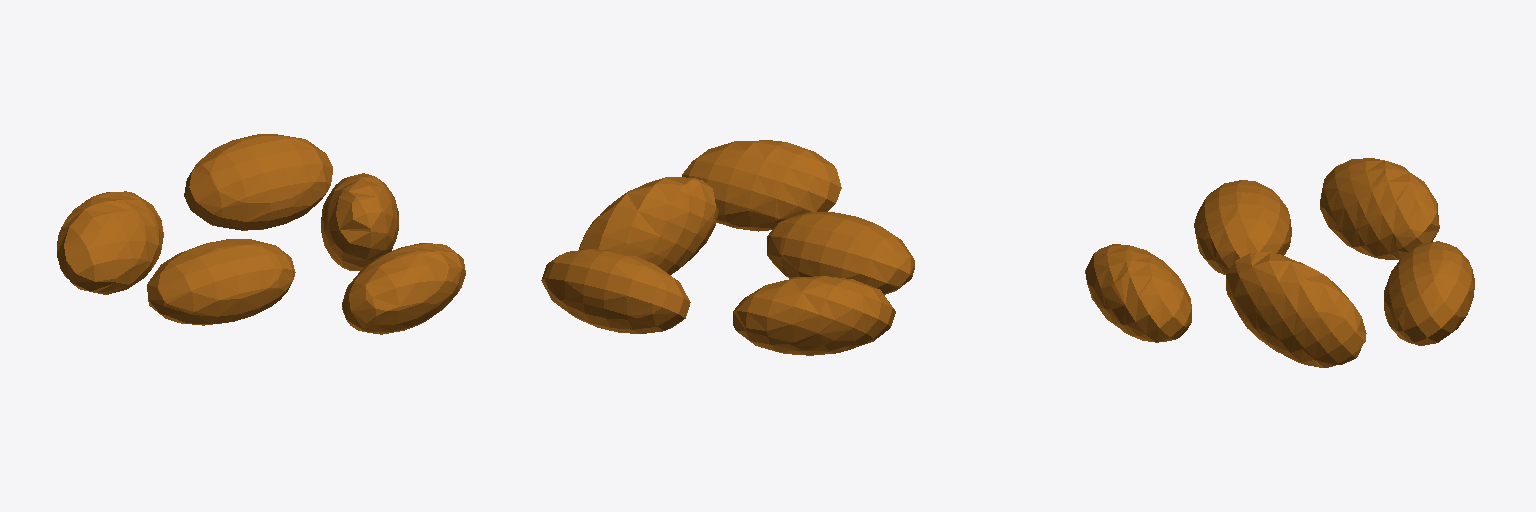
The model's file is WheatSeed.obj.
The picture shows the model from 3 angles: view 1: azimuth 30°, elevation 25°; view 2: azimuth 150°, elevation 25°; view 3: azimuth 270°, elevation 25°; orthographic projection.
Visible parts, largest first — view 1: Mball; view 2: Mball; view 3: Mball.
Boxes of the visible parts, x1,y1,x2,y2 form: Mball: [57, 134, 465, 334]; Mball: [541, 140, 914, 355]; Mball: [1085, 158, 1474, 367].
Size of the model in its own units: 1.93 by 0.5656 by 2.07.